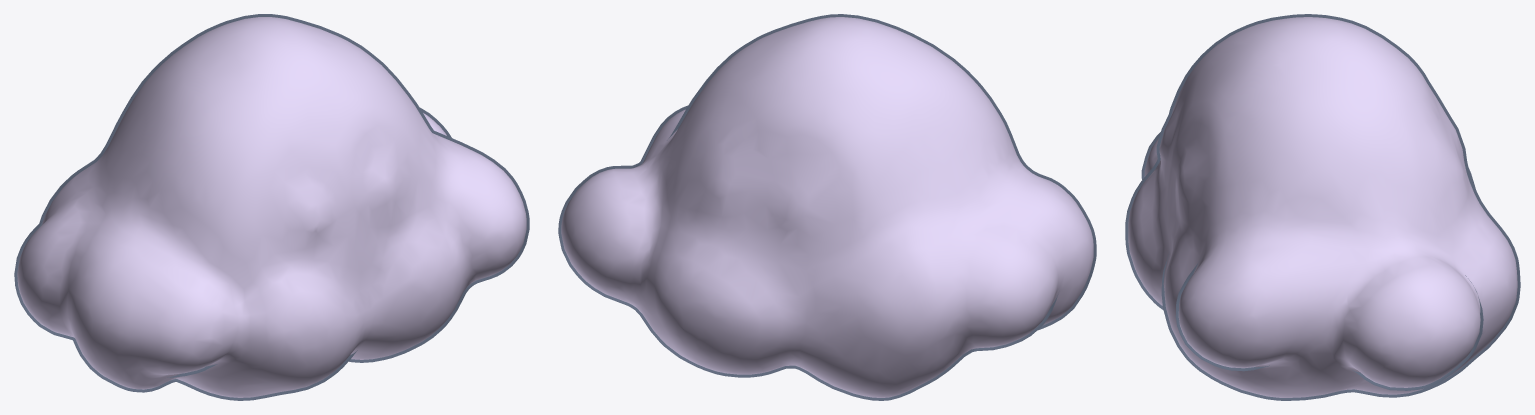
Rendered from cloud-body.glb.
3 renders of one model, left to right at view 1: azimuth 30°, elevation 25°; view 2: azimuth 150°, elevation 25°; view 3: azimuth 270°, elevation 25°, orthographic. The views are drawn at different scales.
Visible parts, largest first — view 1: Body, BodyOutline; view 2: Body, BodyOutline; view 3: Body, BodyOutline.
Boxes of the visible parts, x1,y1,x2,y2 form: Body: [17, 17, 526, 397]; BodyOutline: [14, 14, 529, 400]; Body: [561, 17, 1093, 397]; BodyOutline: [558, 14, 1096, 400]; Body: [1128, 17, 1517, 397]; BodyOutline: [1125, 14, 1520, 400].
Size of the model in its own units: 1.77 by 1.24 by 1.34.
